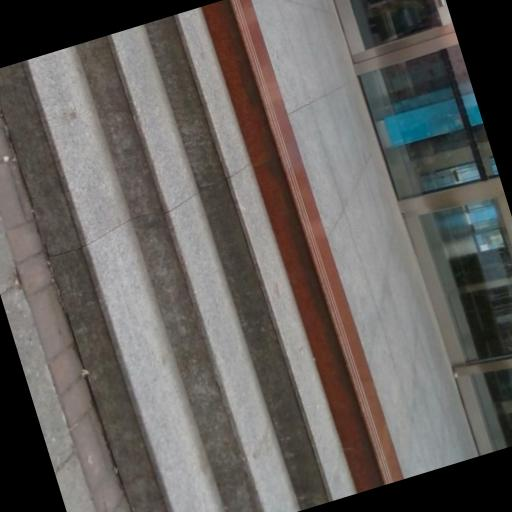stairs: (0, 8, 354, 511)
